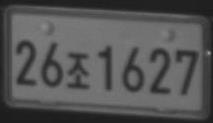1: (95, 46, 118, 91)
2: (148, 48, 171, 94), (15, 39, 37, 86)
6: (40, 42, 63, 87), (122, 46, 144, 92)
7: (175, 50, 199, 95)
조: (66, 51, 90, 90)
